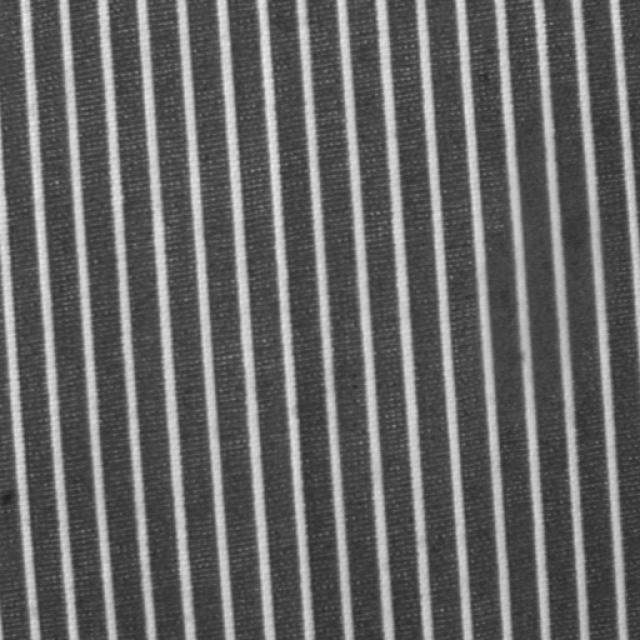Stain-Defect: (485, 120, 614, 396)
